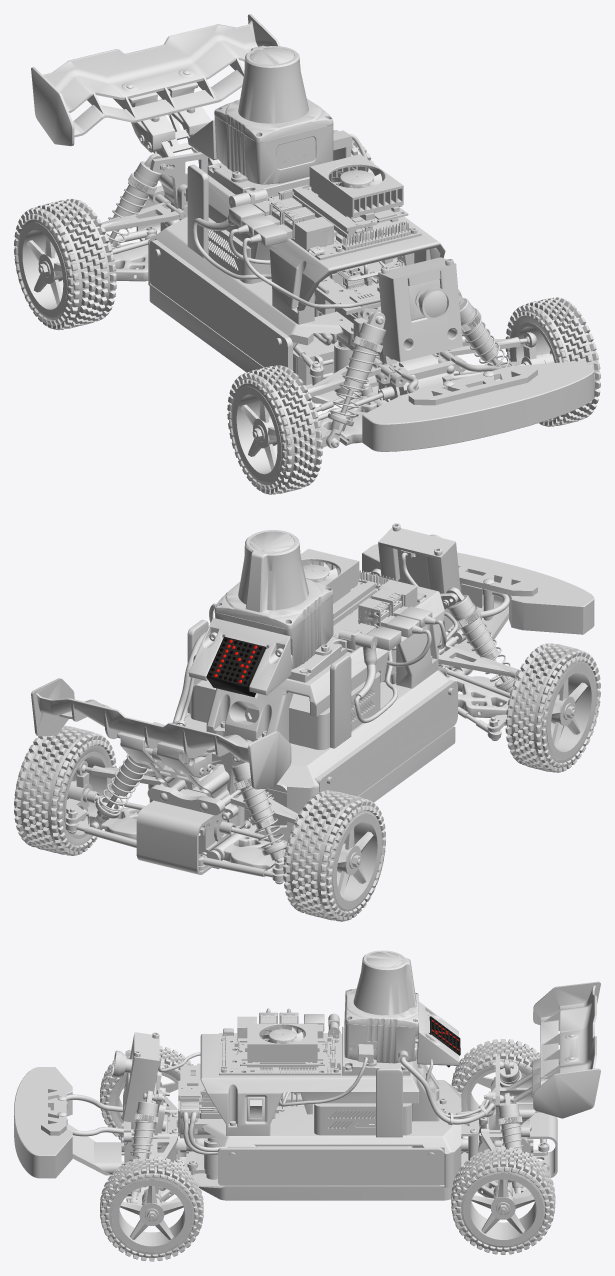
File: NeoRacer CAD.fbx
3 renders of one model, top to bottom at view 1: azimuth 30°, elevation 25°; view 2: azimuth 150°, elevation 25°; view 3: azimuth 270°, elevation 25°, orthographic. The views are drawn at different scales.
Parts seen in each view (by area): view 1: chassis, vendor, printed, Wheel RR, Wheel FR, sidepods, wiring, Wheel FL, electronics, fasteners; view 2: chassis, printed, vendor, Wheel RR, Wheel FR, Wheel RL, electronics, sidepods, wiring, led, fasteners; view 3: chassis, printed, vendor, sidepods, Wheel RL, Wheel FL, electronics, wiring, Wheel RR, Wheel FR, fasteners, led.
Part boxes in pixels (bbox=[...]): chassis: bbox=[31, 14, 594, 451]; vendor: bbox=[214, 45, 421, 318]; printed: bbox=[136, 119, 462, 361]; Wheel RR: bbox=[14, 199, 116, 330]; Wheel FR: bbox=[227, 365, 322, 494]; sidepods: bbox=[150, 240, 397, 370]; wiring: bbox=[192, 130, 462, 345]; Wheel FL: bbox=[505, 297, 600, 426]; electronics: bbox=[187, 130, 450, 320]; fasteners: bbox=[126, 70, 529, 447]; chassis: bbox=[31, 544, 594, 882]; printed: bbox=[136, 527, 460, 874]; vendor: bbox=[214, 530, 447, 669]; Wheel RR: bbox=[283, 790, 385, 921]; Wheel FR: bbox=[505, 643, 600, 772]; Wheel RL: bbox=[14, 725, 116, 855]; electronics: bbox=[187, 534, 442, 800]; sidepods: bbox=[172, 680, 457, 796]; wiring: bbox=[172, 550, 458, 726]; led: bbox=[206, 637, 266, 697]; fasteners: bbox=[68, 523, 517, 884]; chassis: bbox=[14, 981, 600, 1209]; printed: bbox=[123, 1001, 557, 1187]; vendor: bbox=[180, 950, 418, 1121]; sidepods: bbox=[218, 1147, 444, 1185]; Wheel RL: bbox=[451, 1147, 555, 1254]; Wheel FL: bbox=[100, 1156, 203, 1261]; electronics: bbox=[112, 1037, 422, 1147]; wiring: bbox=[158, 1008, 494, 1154]; Wheel RR: bbox=[451, 1039, 540, 1127]; Wheel FR: bbox=[100, 1045, 193, 1140]; fasteners: bbox=[57, 1011, 574, 1202]; led: bbox=[429, 1016, 460, 1067].
Size of the model in its own units: 0.2483 by 0.2184 by 0.4805.
